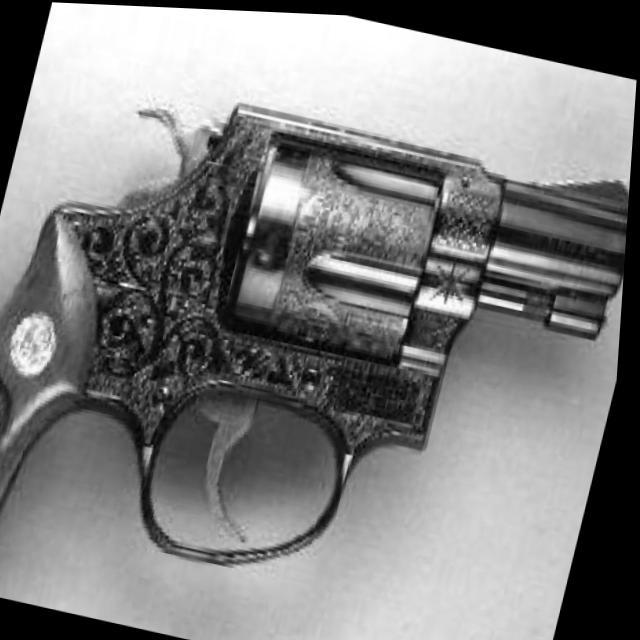weapon: (0, 42, 638, 640)
